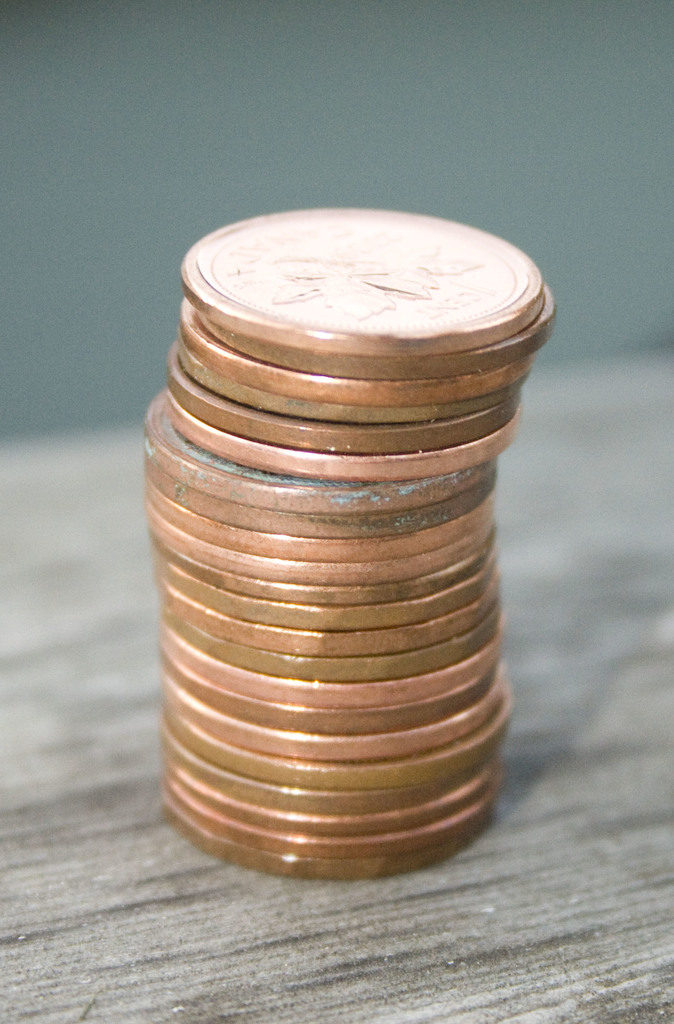Coin: (139, 206, 555, 880)
